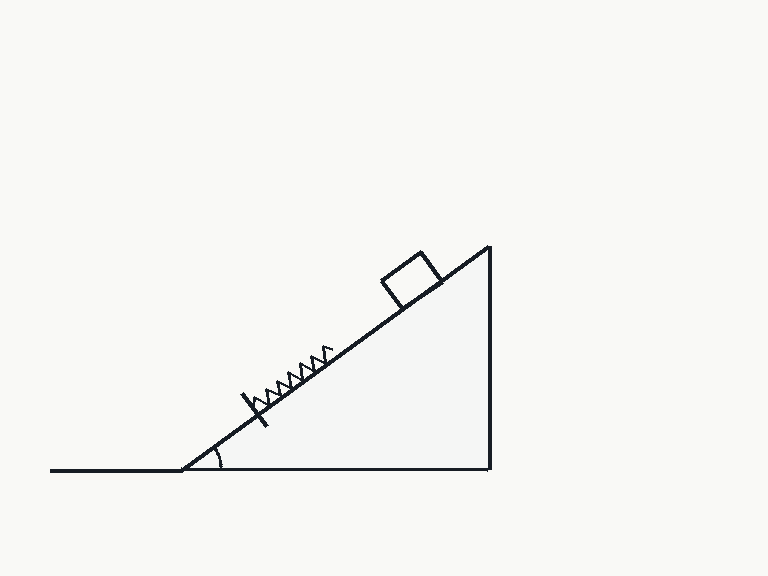block: (379, 250, 444, 311)
ramp: (179, 245, 490, 472)
spring: (251, 345, 335, 409)
